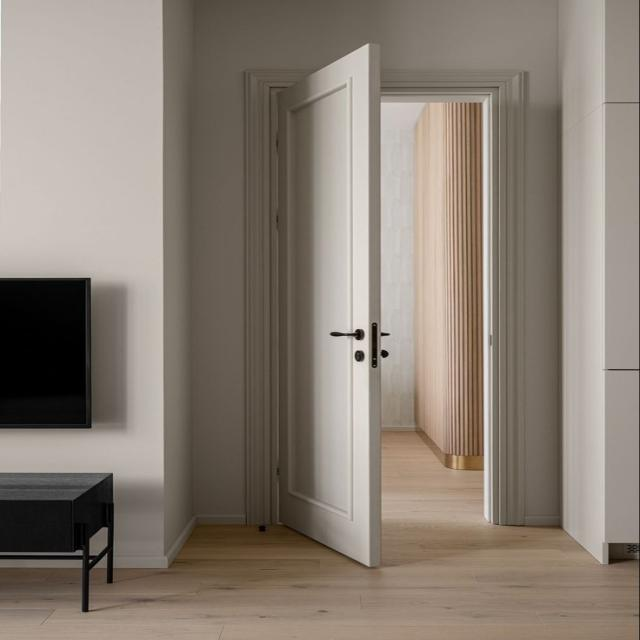door: (273, 42, 384, 567)
obstacle: (0, 472, 114, 612)
